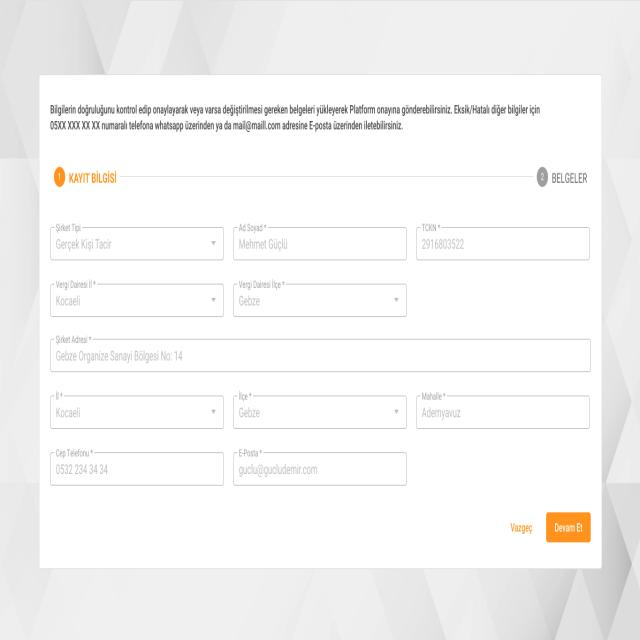QLabel: (48, 99, 544, 134), (552, 520, 584, 532), (509, 521, 533, 534)
VBtn: (546, 512, 591, 542), (506, 512, 540, 540)
VCard: (39, 74, 603, 569)
VContainer: (1, 0, 639, 639)
VStepper: (49, 163, 590, 192)
VTextField: (50, 338, 591, 373), (51, 451, 224, 488), (51, 394, 224, 431), (415, 226, 592, 262), (49, 282, 224, 318), (233, 282, 408, 318), (233, 226, 408, 262), (232, 451, 406, 487), (234, 394, 406, 430), (415, 395, 590, 430), (50, 226, 224, 261)
